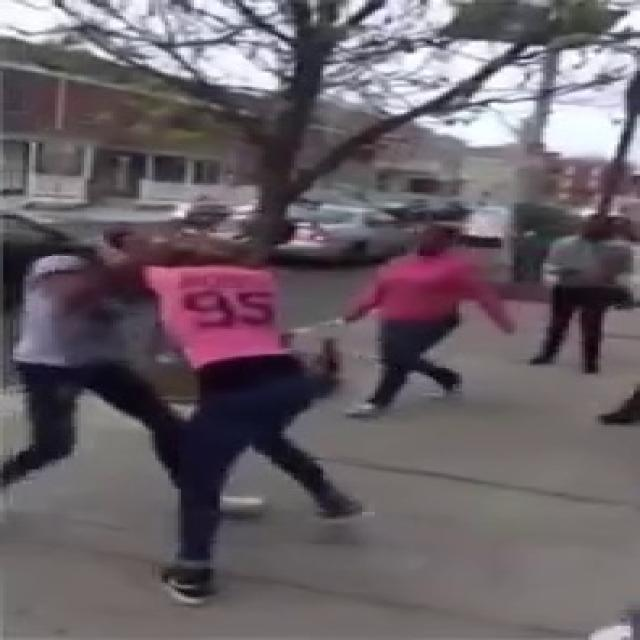Violence: (1, 226, 370, 608)
